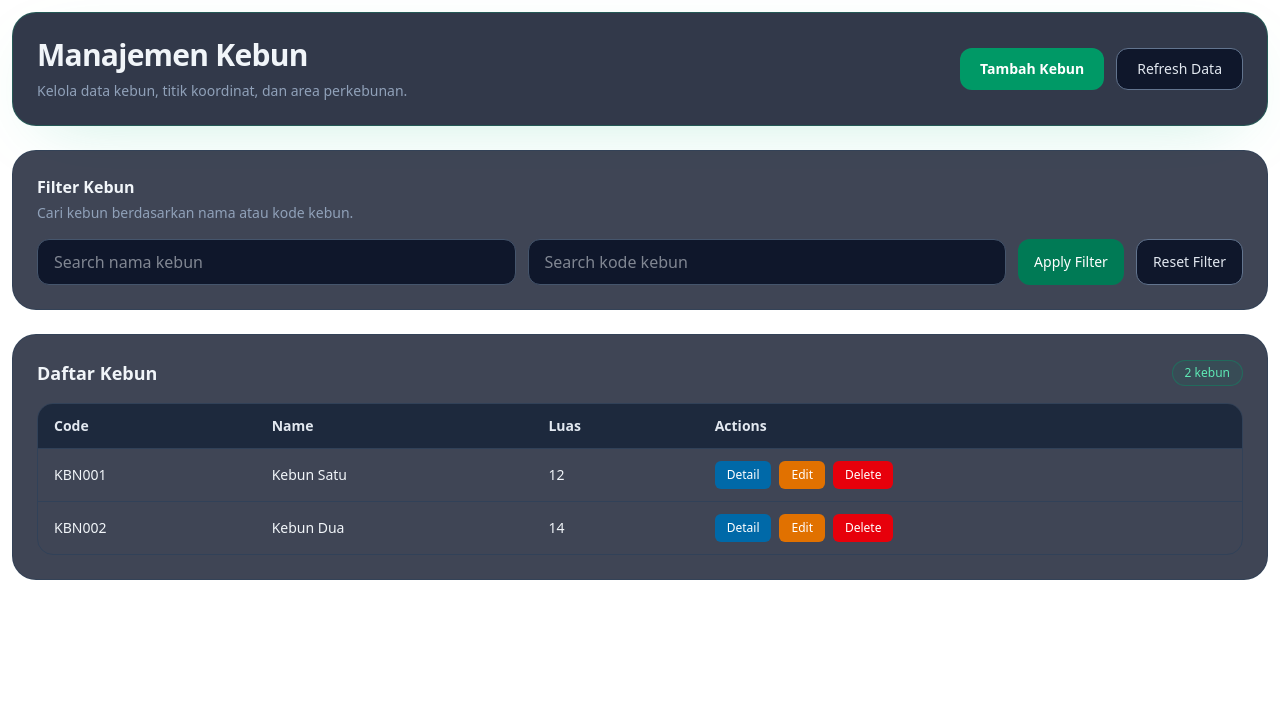
it: AdminKebunPage delete flow › renders backend error message when assignment API fails
The width and height of the screenshot is (1280, 709).
Expected: the text "KBN001" is shown, x1=38 y1=448 x2=256 y2=502
Click the button "Detail" in the row of "KBN001".
click(743, 475)  # box x1=715 y1=461 x2=772 y2=489
(page scrolled)
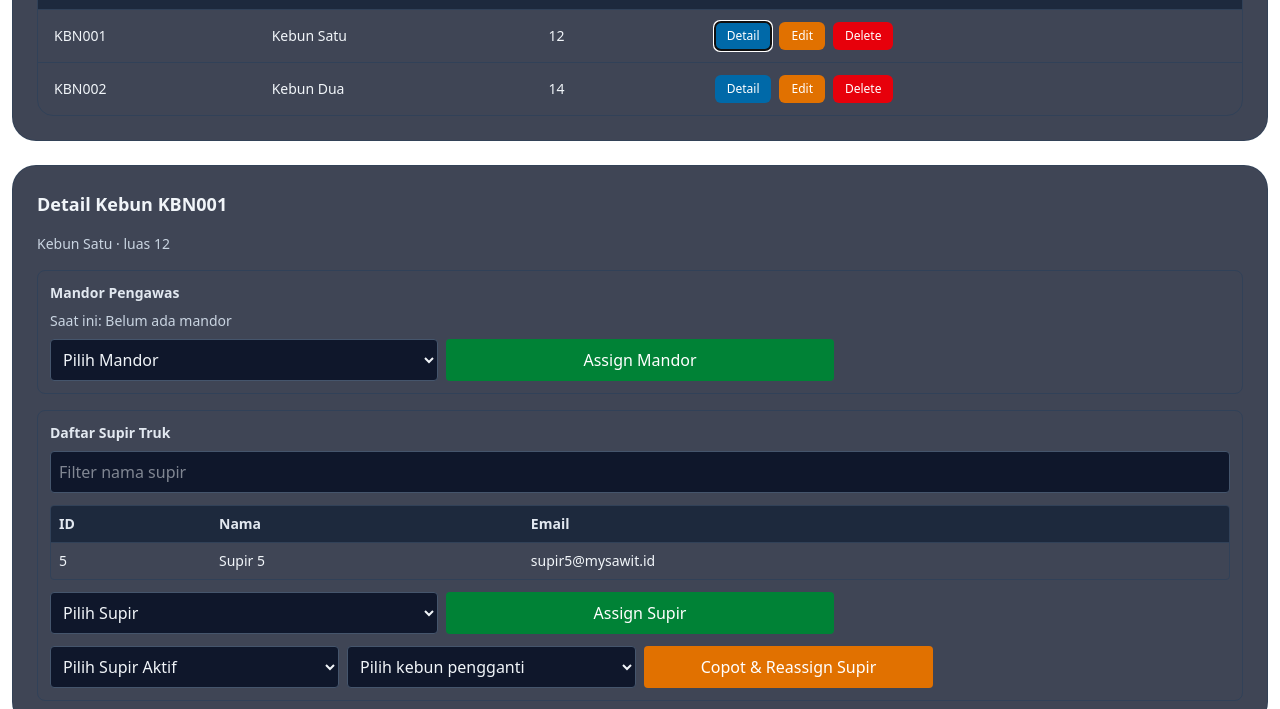
Select "Mandor 3 (3)" in the dropdown below "Saat ini:" at (244, 360), box x1=50 y1=339 x2=438 y2=381
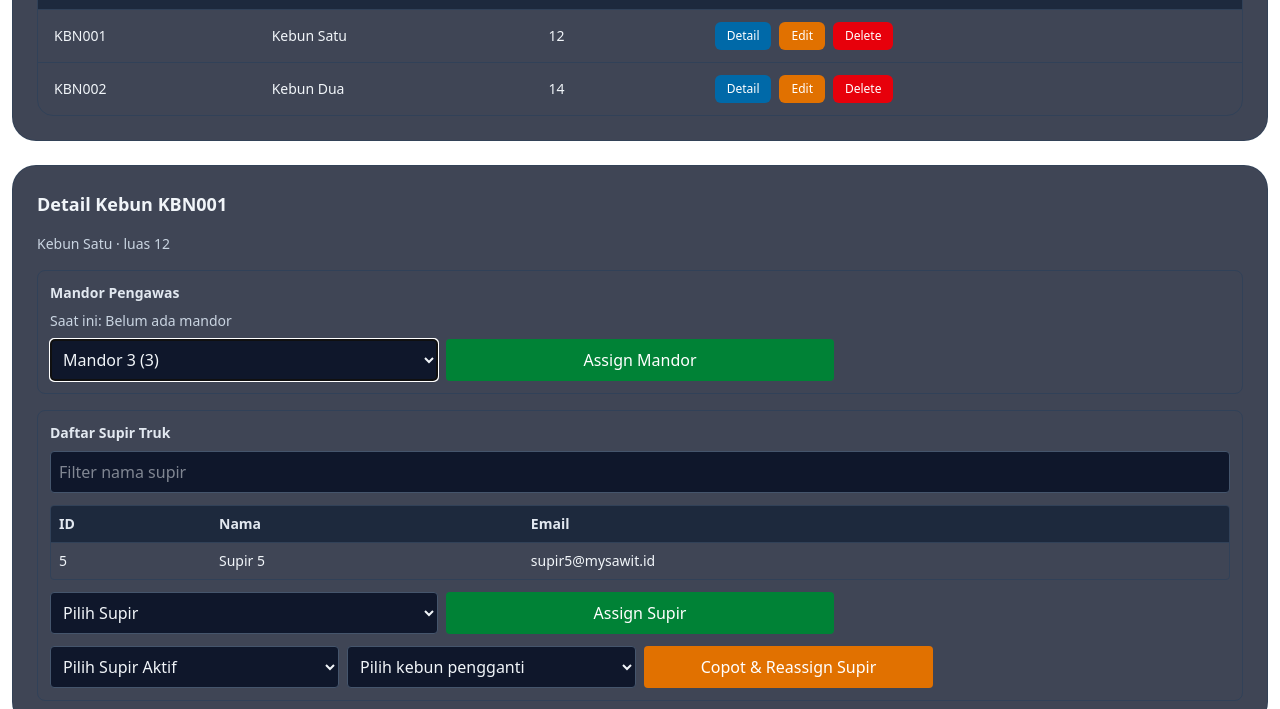
Click the button "Assign Mandor".
click(640, 360)  # box x1=446 y1=339 x2=834 y2=381
(page scrolled)
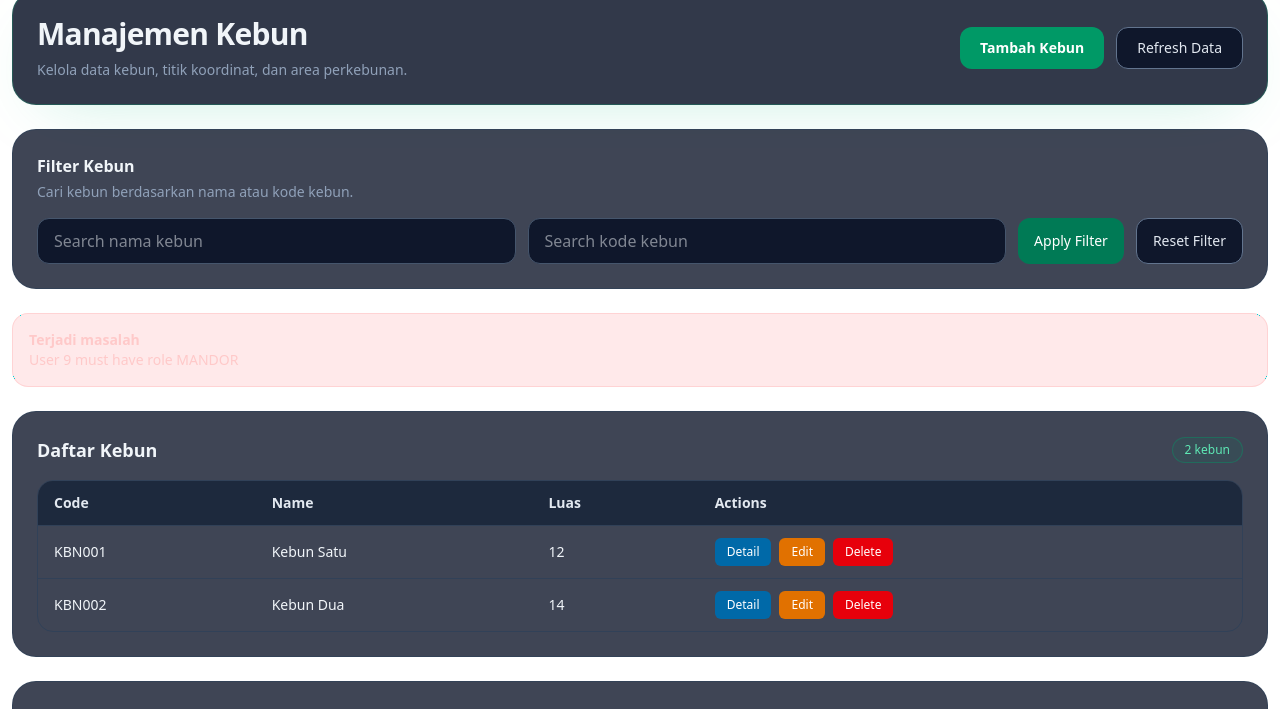
Now the text "User 9 must have role MANDOR" is shown, box x1=29 y1=350 x2=238 y2=369
